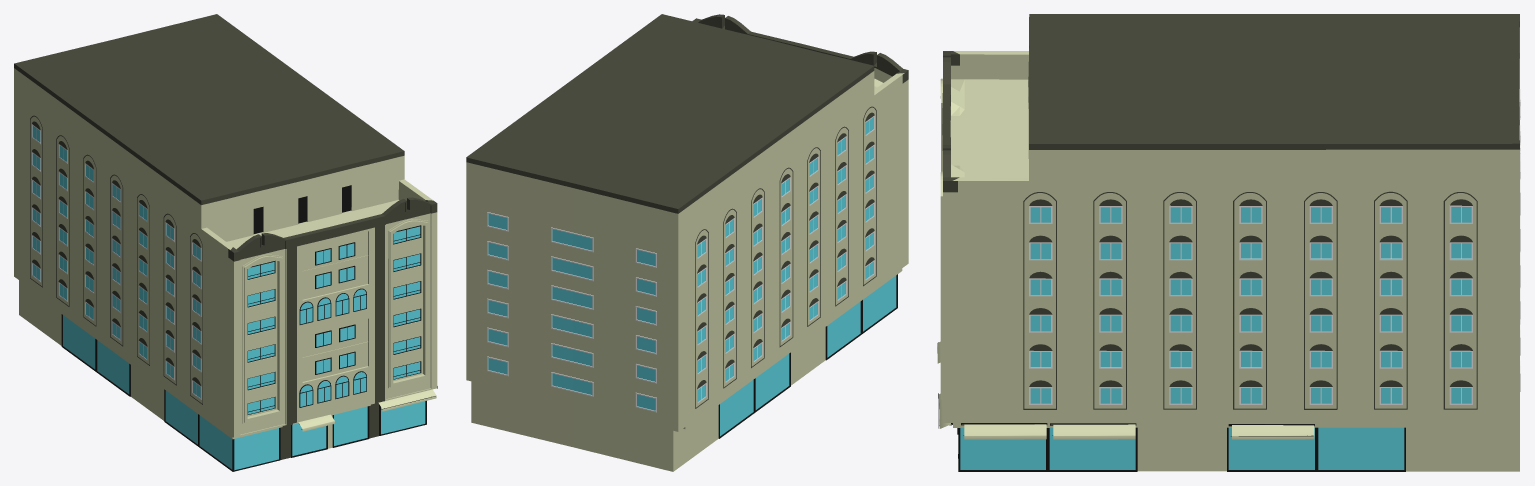
Rendered from SM_Building1.fbx.
3 views of the same model, side by side, from view 1: azimuth 30°, elevation 25°; view 2: azimuth 150°, elevation 25°; view 3: azimuth 270°, elevation 25° (orthographic). The views are drawn at different scales.
Visible parts, largest first — view 1: SM_Building1, Object005; view 2: SM_Building1; view 3: SM_Building1, Object004, Object005.
Boxes of the visible parts, <box> form: SM_Building1: <box>14,14,437,471</box>; Object005: <box>298,389,436,431</box>; SM_Building1: <box>466,14,908,471</box>; SM_Building1: <box>938,14,1520,471</box>; Object004: <box>964,424,1314,439</box>; Object005: <box>937,341,1135,439</box>.
Size of the model in its own units: 2518 by 2864 by 4577.
